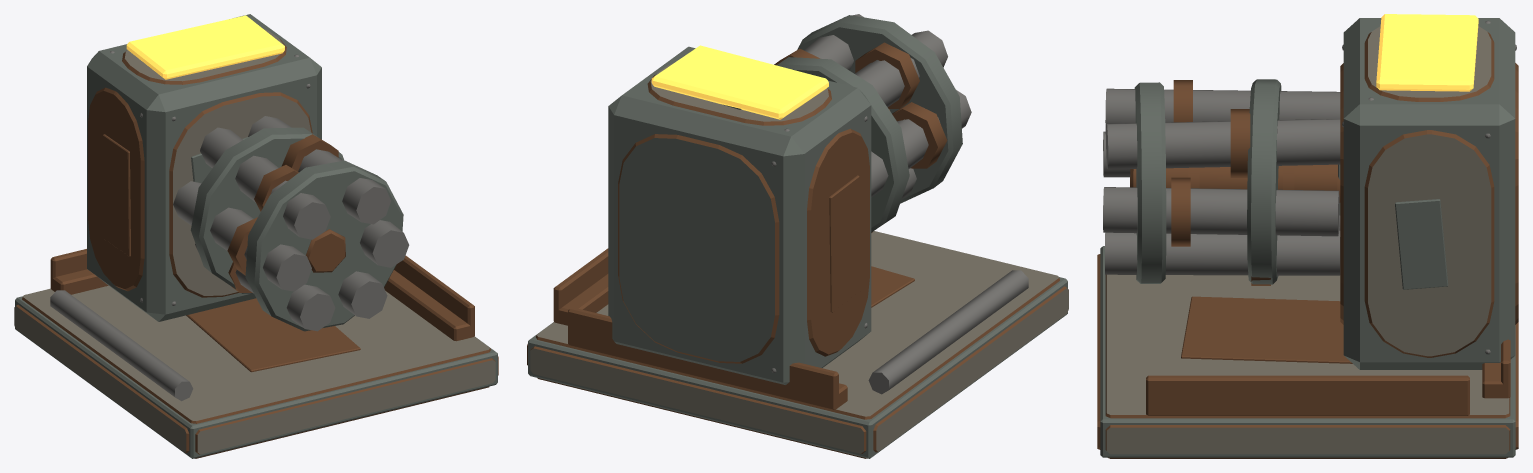
The model's file is R4X_RapidFire.fbx.
3 views of the same model, side by side, from view 1: azimuth 30°, elevation 25°; view 2: azimuth 150°, elevation 25°; view 3: azimuth 270°, elevation 25° (orthographic). The views are drawn at different scales.
Visible parts, largest first — view 1: R4X_RapidFire_Body, R4X_RapidFire_Barrels; view 2: R4X_RapidFire_Body, R4X_RapidFire_Barrels; view 3: R4X_RapidFire_Body, R4X_RapidFire_Barrels.
Part boxes in pixels (bbox=[...]): R4X_RapidFire_Body: bbox=[14, 14, 498, 458]; R4X_RapidFire_Barrels: bbox=[173, 116, 409, 331]; R4X_RapidFire_Body: bbox=[527, 45, 1068, 458]; R4X_RapidFire_Barrels: bbox=[774, 14, 971, 232]; R4X_RapidFire_Body: bbox=[1097, 14, 1518, 458]; R4X_RapidFire_Barrels: bbox=[1103, 79, 1340, 285].
Bounding box in the file's own units: 0.52 × 0.445 × 0.52.
